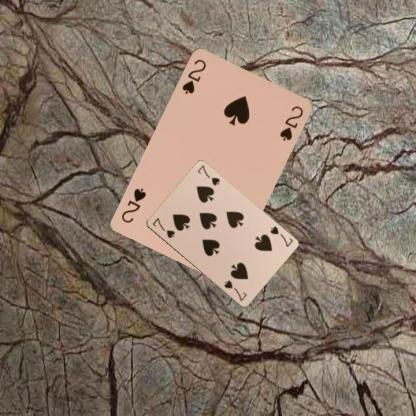2s: (179, 56, 208, 95)
7s: (150, 215, 176, 240), (268, 224, 294, 248)
